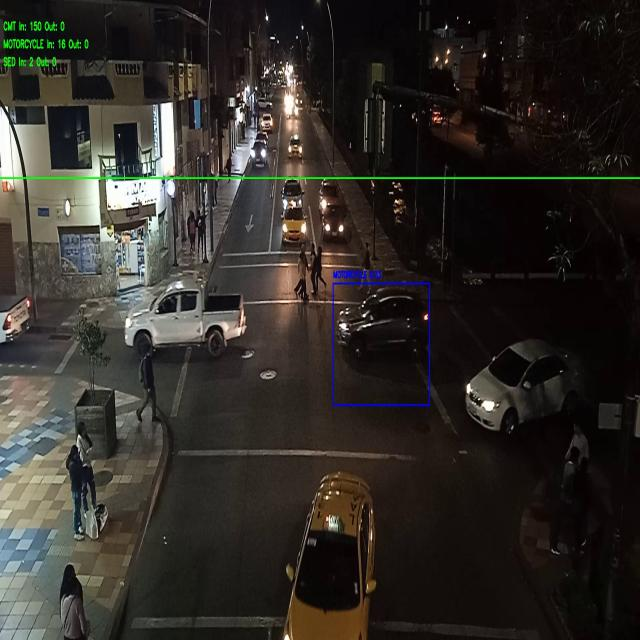CMT: (126, 286, 246, 351), (0, 293, 31, 351)
SED: (283, 469, 374, 640), (466, 338, 565, 430), (283, 207, 305, 244), (322, 205, 343, 240), (320, 180, 339, 203), (288, 135, 302, 158)
SUV: (338, 293, 427, 363), (282, 177, 302, 206), (253, 142, 268, 166), (262, 114, 272, 132)
